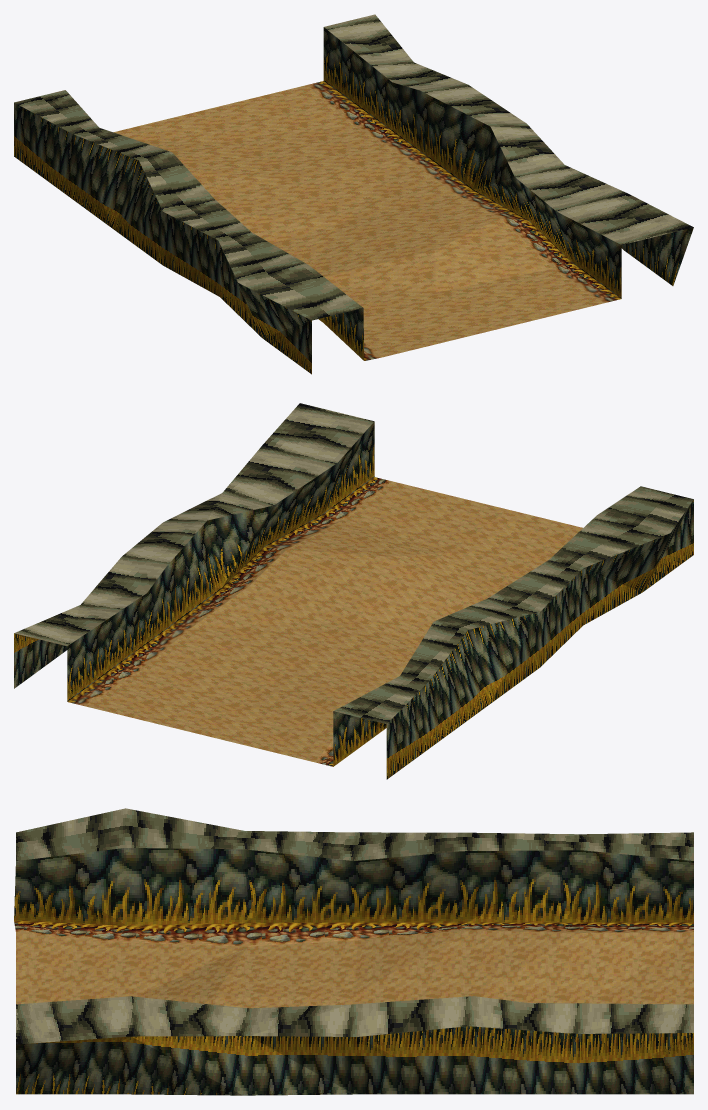
Rendered from tv_ground_t0_b0_e0.dae.
The picture shows the model from 3 angles, top to bottom: view 1: azimuth 30°, elevation 25°; view 2: azimuth 150°, elevation 25°; view 3: azimuth 270°, elevation 25°; orthographic projection. The views are drawn at different scales.
Visible parts, largest first — view 1: Plane; view 2: Plane; view 3: Plane.
Part boxes in pixels (x1,y1,x2,y2): Plane: [14, 14, 693, 374]; Plane: [14, 403, 693, 779]; Plane: [14, 808, 693, 1095].
Size of the model in its own units: 7.9 by 10.03 by 1.35.
Materials: 4 (4 with a texture image).
